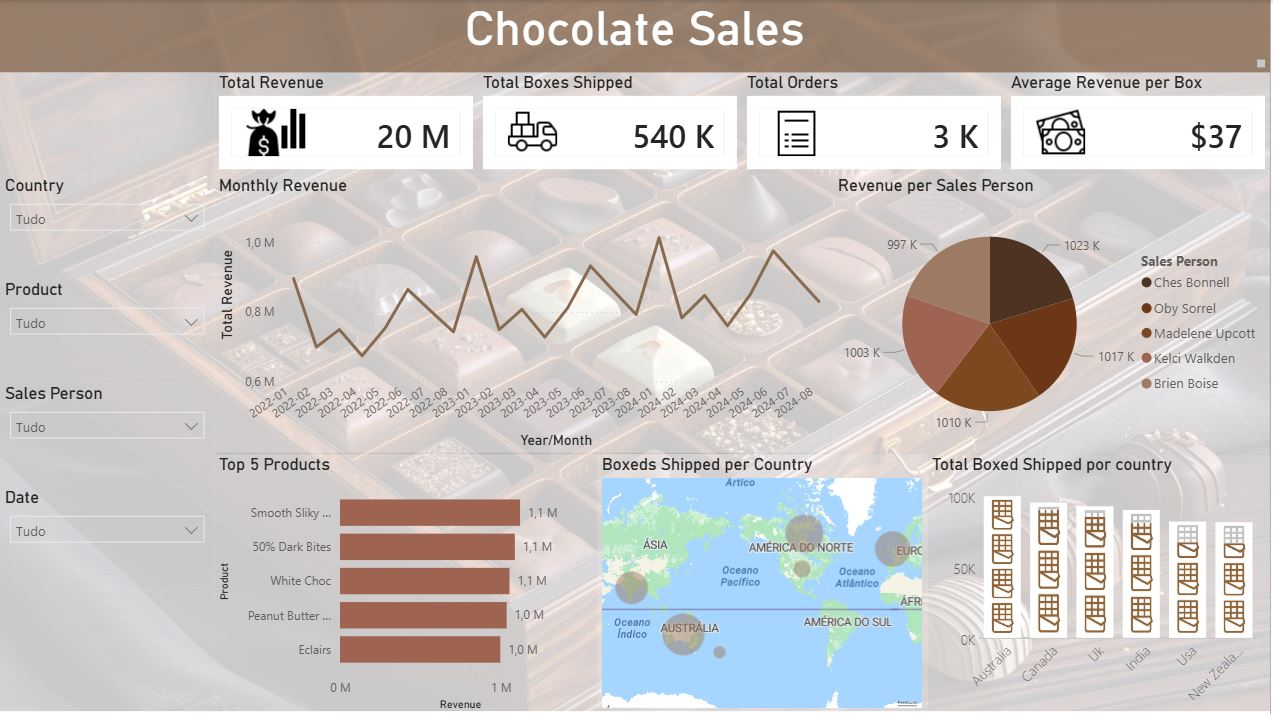

The page's visual inventory and layout, read from the dashboard file:
{"tool":"powerbi","page":{"name":"Página 1","canvas":[1280,720],"ordinal":0},"visuals":[{"type":"cardVisual","title":"Total Revenue","fields":{"Data":["chocolate_sales_clean.Total Revenue"]},"box":[215.7,72.6,266.1,103.8],"z":0},{"type":"cardVisual","title":"Total Boxes Shipped","fields":{"Data":["chocolate_sales_clean.Total Boxed Shipped"]},"box":[481.8,72.6,266.1,103.8],"z":1000},{"type":"cardVisual","title":"Total Orders","fields":{"Data":["chocolate_sales_clean.Total Orders"]},"box":[747.8,72.6,266.1,103.8],"z":2000},{"type":"cardVisual","title":"Average Revenue per Box","fields":{"Data":["chocolate_sales_clean.Average Revenue per Box"]},"box":[1013.9,72.6,266.1,103.8],"z":3000},{"type":"slicer","title":"Country","fields":{"Values":["chocolate_sales_clean.country"]},"box":[0,176.4,215.7,104.8],"z":4000},{"type":"stackedAreaChart","title":"Monthly Revenue","fields":{"Category":["chocolate_sales_clean.year_month"],"Y":["chocolate_sales_clean.Total Revenue"]},"box":[215.7,176.4,623.9,280.2],"z":5000},{"type":"azureMap","title":"Boxeds Shipped per Country","fields":{"Location":["chocolate_sales_clean.country"],"Size":["chocolate_sales_clean.Total Boxed Shipped"],"Category":["chocolate_sales_clean.country"]},"box":[601.7,457.6,332.6,261],"z":6000},{"type":"clusteredBarChart","title":"Top 5 Products","fields":{"Category":["chocolate_sales_clean.product"],"Y":["chocolate_sales_clean.Total Revenue"]},"box":[215.7,457.6,386,263.1],"z":7000},{"type":"clusteredColumnChart","title":"Top 5 Sales Person","fields":{"Category":["chocolate_sales_clean.sales_person"],"Y":["chocolate_sales_clean.Total Revenue"]},"box":[839.6,176.4,440.4,281.2],"z":8000},{"type":"slicer","title":"Product","fields":{"Values":["chocolate_sales_clean.product"]},"box":[0,281.2,215.7,104.8],"z":9000},{"type":"slicer","title":"Sales Person","fields":{"Values":["chocolate_sales_clean.sales_person"]},"box":[0,386,215.7,104.8],"z":10000},{"type":"slicer","title":"Date","fields":{"Values":["chocolate_sales_clean.year_month"]},"box":[0,490.8,215.7,104.8],"z":11000},{"type":"PBI_CV_73744D90_4DC9_4F18_8BA5_EE8FA5C98035","fields":{"Category":["chocolate_sales_clean.country"],"Values":["chocolate_sales_clean.Total Boxed Shipped"]},"box":[934.3,457.6,345.7,261],"z":12000},{"type":"textbox","title":"Chocolate Sales","box":[0,0,1280,72.6],"z":13000},{"type":"textbox","box":[0,72.6,215.7,103.8],"z":14000},{"type":"textbox","box":[0,595.7,215.7,123],"z":15000}]}

Visuals, with their boxes in screenshot pixels (x1, y1, x2, y2), scaled from the page's 1280x720 canvas onto the 1273x714 screenshot:
"Total Revenue" cardVisual: {"x1": 215, "y1": 72, "x2": 479, "y2": 175}
"Total Boxes Shipped" cardVisual: {"x1": 479, "y1": 72, "x2": 744, "y2": 175}
"Total Orders" cardVisual: {"x1": 744, "y1": 72, "x2": 1008, "y2": 175}
"Average Revenue per Box" cardVisual: {"x1": 1008, "y1": 72, "x2": 1272, "y2": 175}
"Country" slicer: {"x1": 0, "y1": 175, "x2": 215, "y2": 279}
"Monthly Revenue" stackedAreaChart: {"x1": 215, "y1": 175, "x2": 835, "y2": 453}
"Boxeds Shipped per Country" azureMap: {"x1": 598, "y1": 454, "x2": 929, "y2": 713}
"Top 5 Products" clusteredBarChart: {"x1": 215, "y1": 454, "x2": 598, "y2": 713}
"Top 5 Sales Person" clusteredColumnChart: {"x1": 835, "y1": 175, "x2": 1272, "y2": 454}
"Product" slicer: {"x1": 0, "y1": 279, "x2": 215, "y2": 383}
"Sales Person" slicer: {"x1": 0, "y1": 383, "x2": 215, "y2": 487}
"Date" slicer: {"x1": 0, "y1": 487, "x2": 215, "y2": 591}
PBI_CV_73744D90_4DC9_4F18_8BA5_EE8FA5C98035 - chocolate_sales_clean.country x chocolate_sales_clean.Total Boxed Shipped: {"x1": 929, "y1": 454, "x2": 1272, "y2": 713}
"Chocolate Sales" textbox: {"x1": 0, "y1": 0, "x2": 1272, "y2": 72}
textbox: {"x1": 0, "y1": 72, "x2": 215, "y2": 175}
textbox: {"x1": 0, "y1": 591, "x2": 215, "y2": 713}
